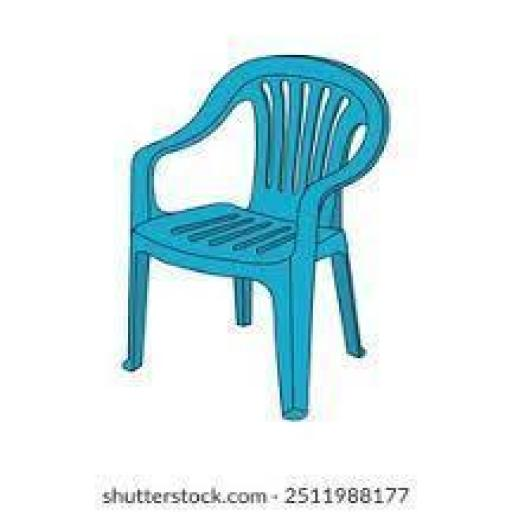chair: (116, 50, 389, 428)
